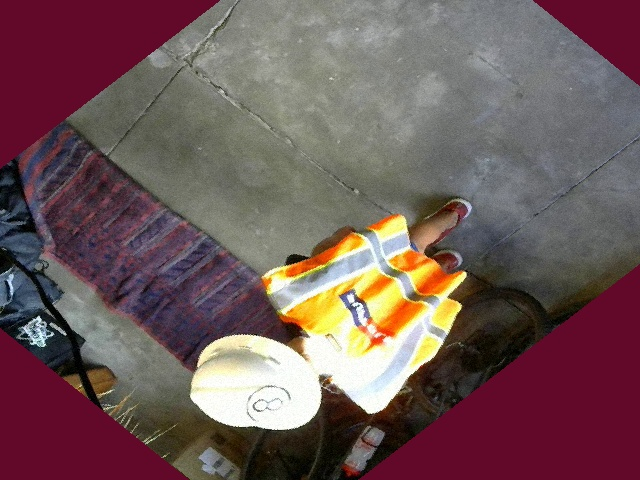eight: (231, 377, 298, 430)
